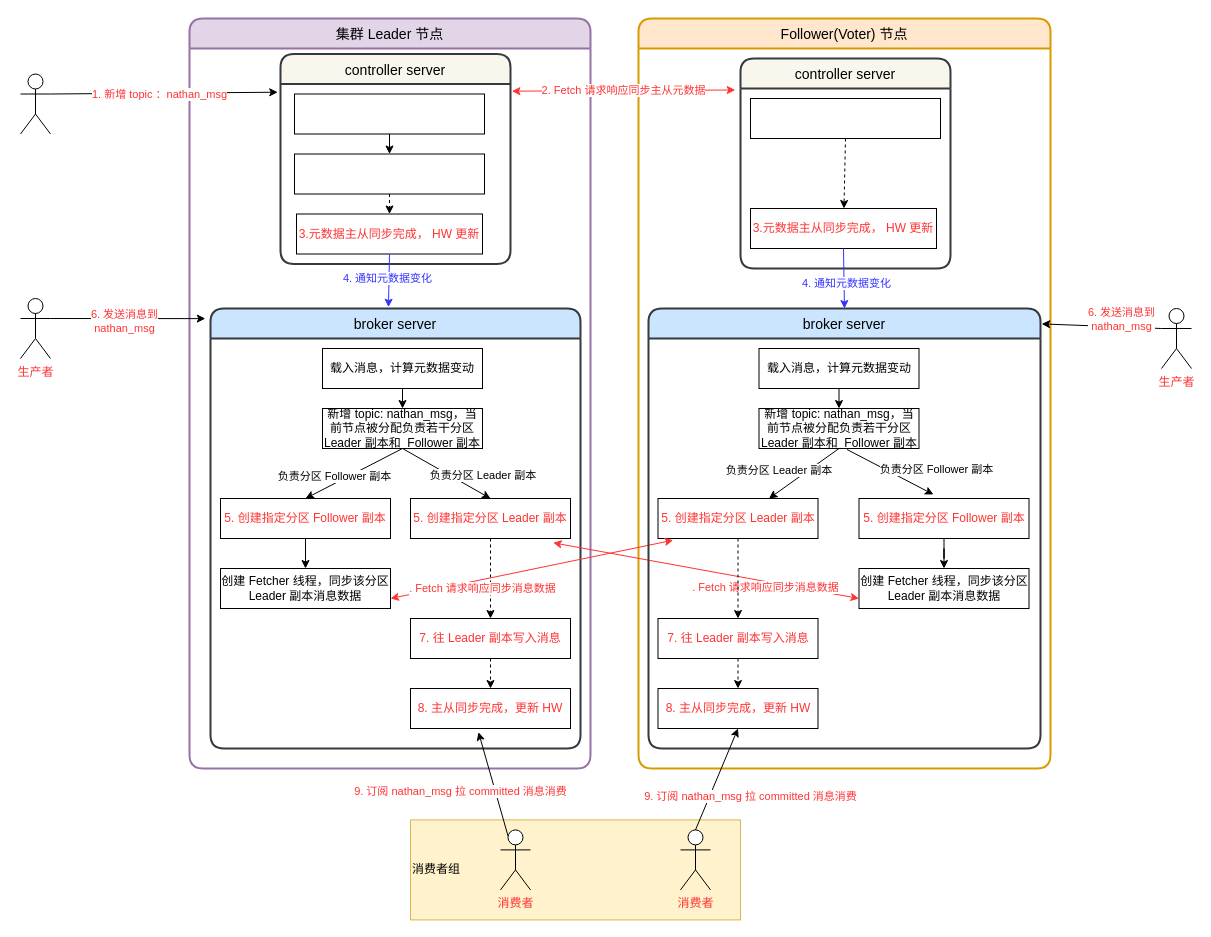
Some shapes in this 1211 by 937 pixel diagram are drawn without their labels. The centre of each missing label's shape, as x and y in pixels:
Actor: point (35, 103)
nathan_msg 分区分配: point (389, 113)
同步 nathan_msg 的元数据记录，写入内部 topic:__cluster_metadata: point (845, 118)
生成 nathan_msg 的元数据记录，写入内部 topic:__cluster_metadata: point (389, 173)
